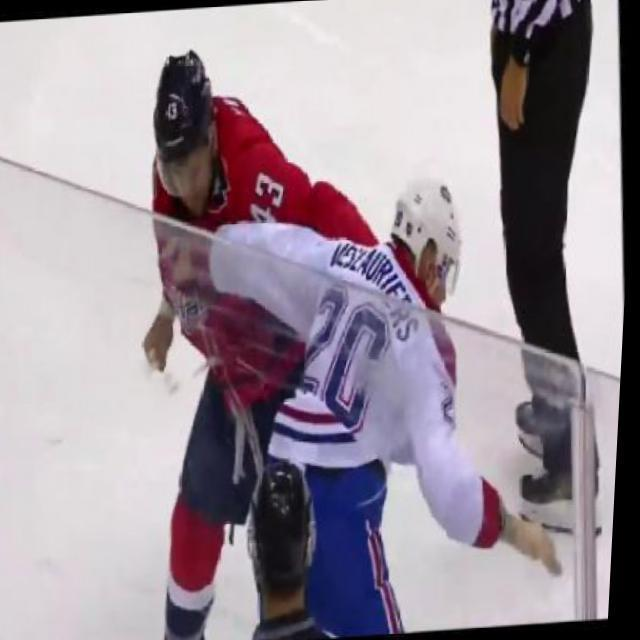fight: (113, 26, 568, 640)
